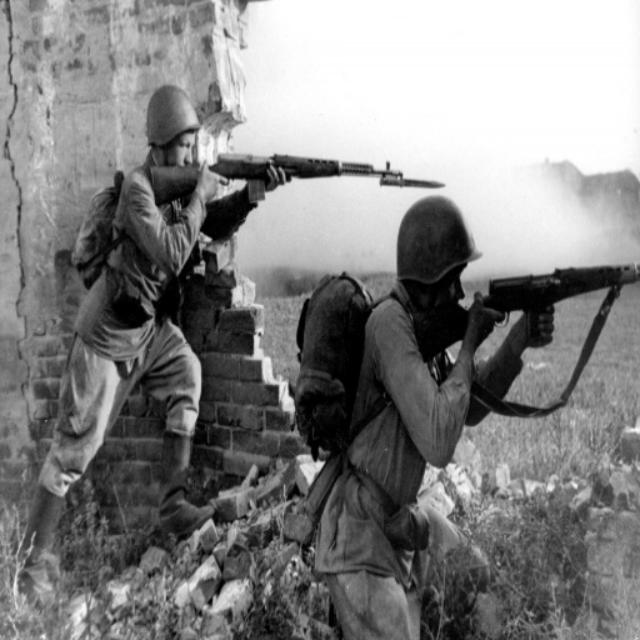other: (314, 195, 490, 629), (74, 84, 224, 538)
